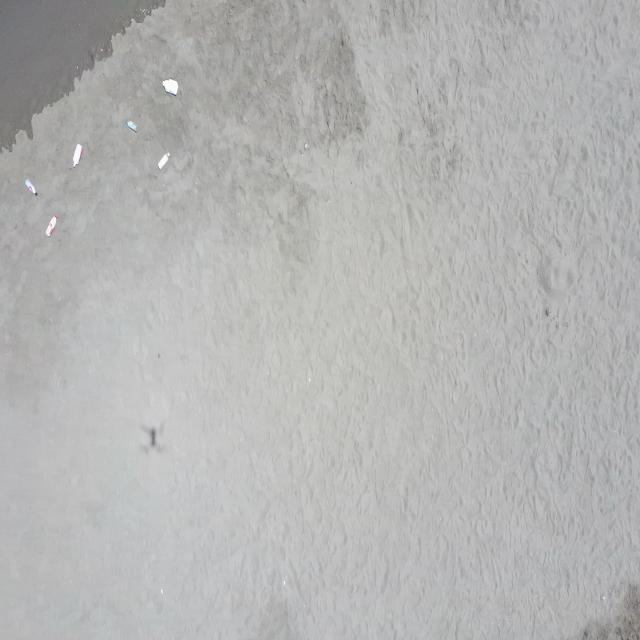plastic-bottle: (161, 77, 179, 97), (72, 141, 84, 168), (46, 213, 59, 237), (125, 118, 140, 134), (158, 151, 170, 170), (26, 177, 38, 196)
